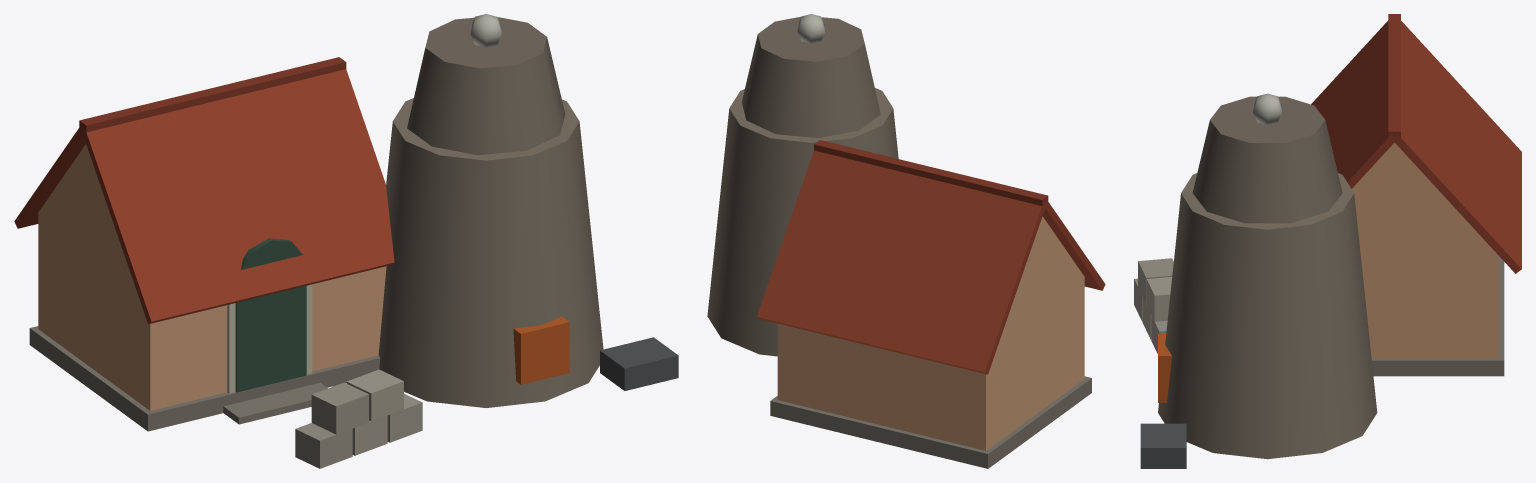
The model's file is procedural_smelter@4.glb.
The picture shows the model from 3 angles, left to right: view 1: azimuth 30°, elevation 25°; view 2: azimuth 150°, elevation 25°; view 3: azimuth 270°, elevation 25°; orthographic projection. The views are drawn at different scales.
Parts seen in each view (by area): view 1: part_0, part_4; view 2: part_0, part_4; view 3: part_0, part_4.
Part boxes in pixels (left/top/right/bottom): part_0: left=14, top=17, right=678, bottom=468; part_4: left=470, top=14, right=501, bottom=47; part_0: left=707, top=16, right=1105, bottom=468; part_4: left=797, top=14, right=824, bottom=43; part_0: left=1134, top=14, right=1521, bottom=468; part_4: left=1253, top=93, right=1281, bottom=124.
Bounding box in the file's own units: 8.51 × 6.09 × 6.72.
